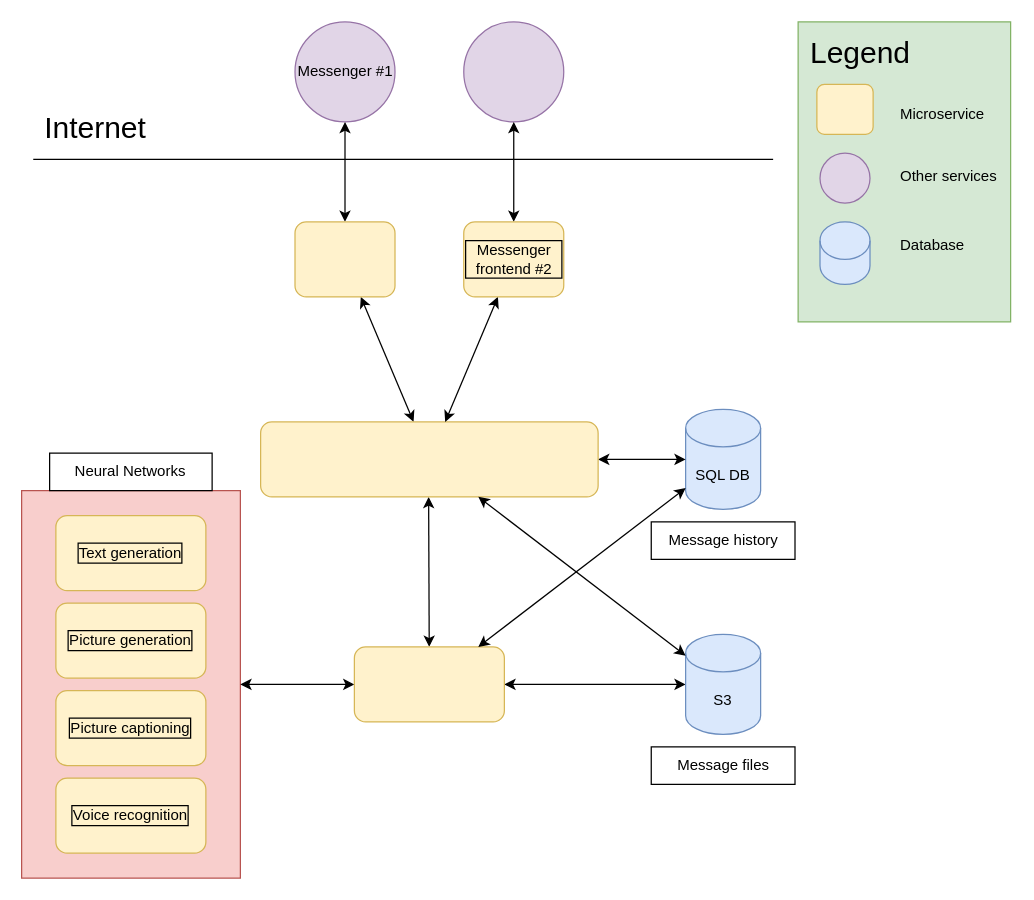
Some shapes in this 1034 by 900 pixel diagram are drawn without their labels. The shapes that lost their labels are listed below. From the top down, each one's box as (x1, y1, x2, y2) in pixels, then its label:
(462, 21, 564, 122): Messenger #2
(294, 221, 395, 297): Messenger frontend #1
(259, 421, 598, 497): Messenger Gateway
(353, 646, 504, 722): Business Logic
